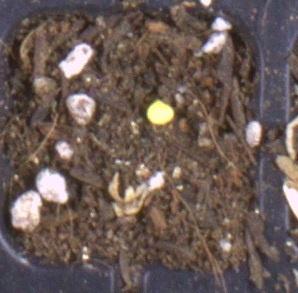chilli seed: (146, 99, 175, 125)
